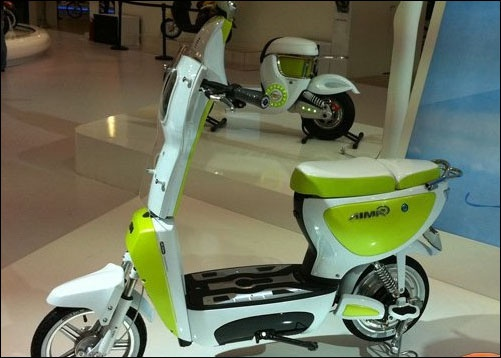non-vehicle: (29, 120, 460, 357), (167, 1, 360, 143)
